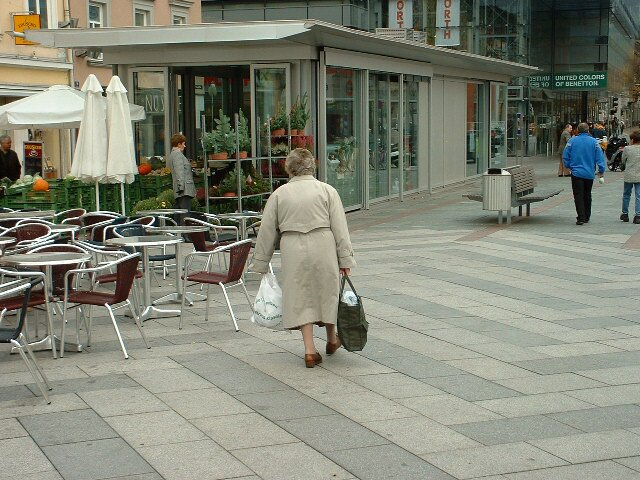person: (252, 145, 380, 361), (561, 119, 609, 230), (165, 132, 201, 218)
